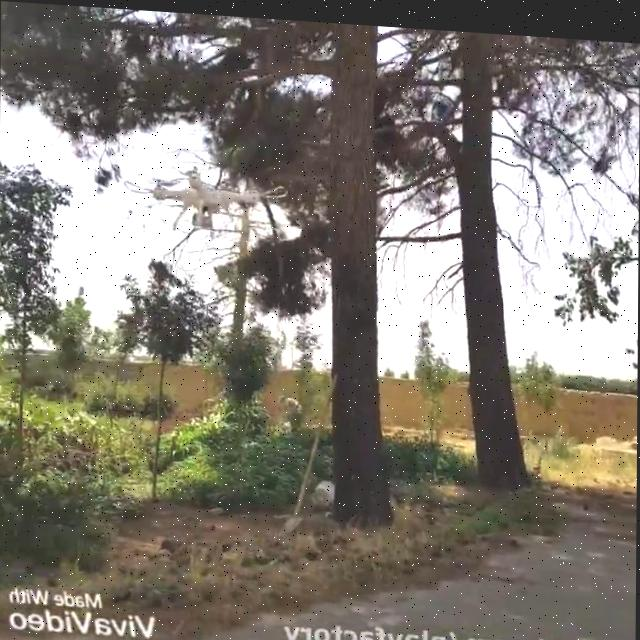drone: (122, 158, 288, 231)
